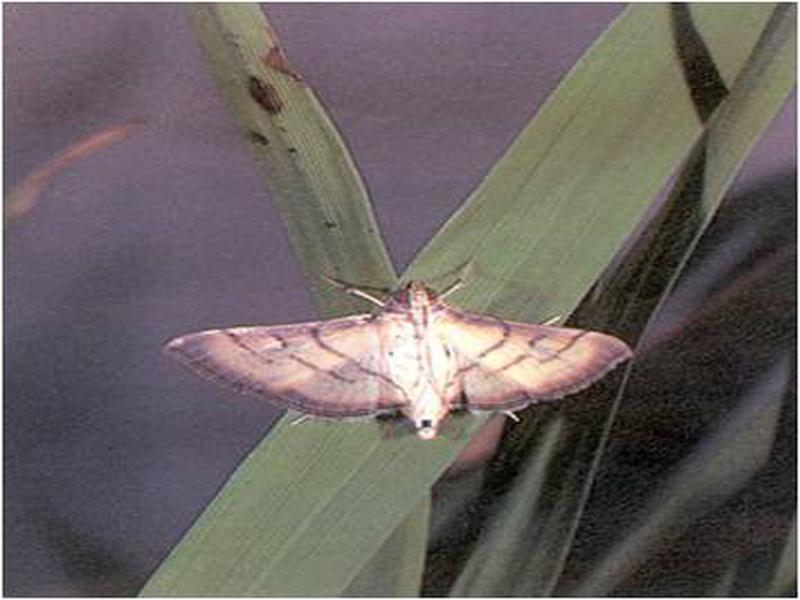Leaf_folder: (155, 274, 640, 439)
